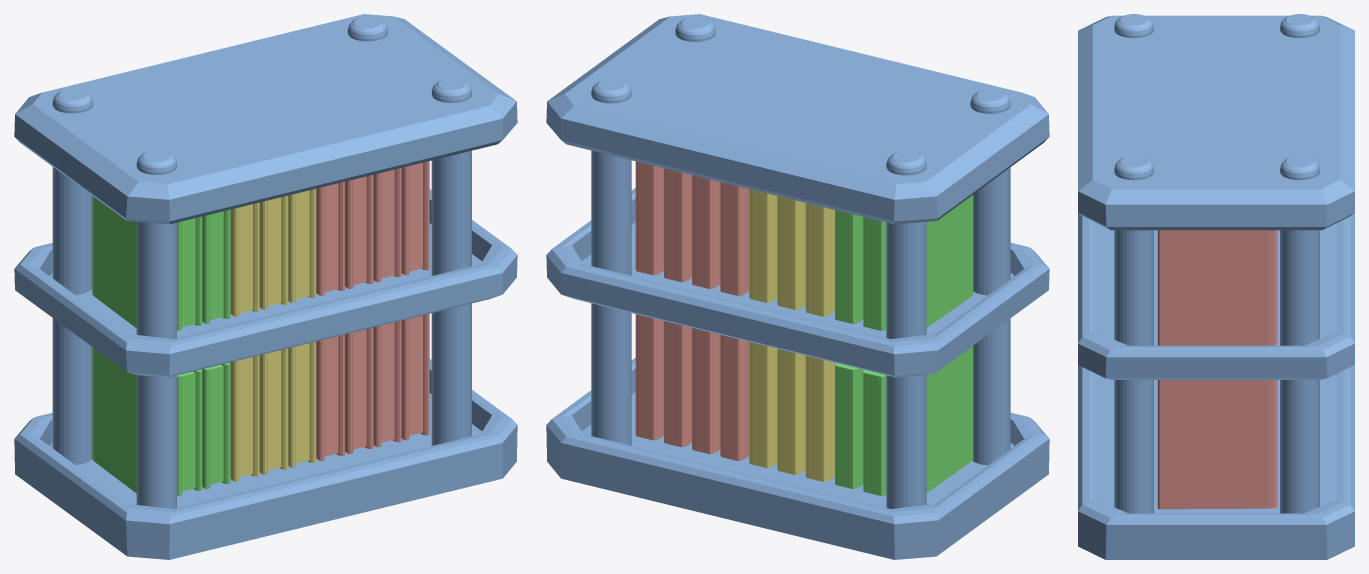
Rendered from Librero.fbx.
The picture shows the model from 3 angles, left to right: view 1: azimuth 30°, elevation 25°; view 2: azimuth 150°, elevation 25°; view 3: azimuth 270°, elevation 25°; orthographic projection.
Visible parts, largest first — view 1: Librero02.001, Librero02.007, Librero02.003, Librero02.005, Librero02.006, Librero02.002, Librero02.004; view 2: Librero02.001, Librero02.007, Librero02.003, Librero02.005, Librero02.002, Librero02.006, Librero02.004; view 3: Librero02.001, Librero02.007, Librero02.003.
Part boxes in pixels (x1=…): Librero02.001: x1=14, y1=14, x2=517, y2=559; Librero02.007: x1=316, y1=314, x2=429, y2=460; Librero02.003: x1=316, y1=161, x2=429, y2=295; Librero02.005: x1=92, y1=347, x2=230, y2=495; Librero02.006: x1=230, y1=341, x2=316, y2=481; Librero02.002: x1=92, y1=196, x2=230, y2=330; Librero02.004: x1=230, y1=189, x2=316, y2=316; Librero02.001: x1=546, y1=14, x2=1049, y2=559; Librero02.007: x1=635, y1=314, x2=749, y2=460; Librero02.003: x1=635, y1=161, x2=749, y2=295; Librero02.005: x1=835, y1=346, x2=973, y2=495; Librero02.002: x1=835, y1=195, x2=973, y2=330; Librero02.006: x1=749, y1=342, x2=835, y2=481; Librero02.004: x1=749, y1=189, x2=834, y2=316; Librero02.001: x1=1078, y1=14, x2=1354, y2=559; Librero02.007: x1=1157, y1=380, x2=1277, y2=509; Librero02.003: x1=1157, y1=230, x2=1277, y2=345.
Size of the model in its own units: 306 by 283 by 190.
